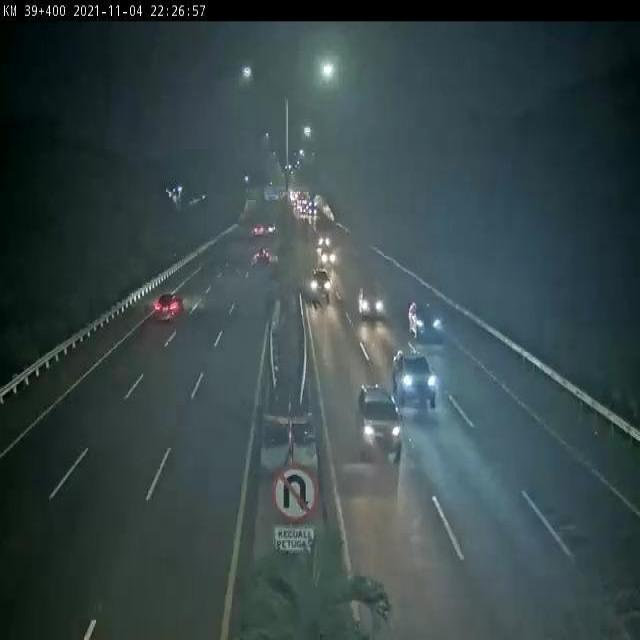car: (355, 382, 405, 458), (392, 348, 437, 408), (407, 297, 444, 340), (357, 283, 386, 317), (153, 290, 183, 322), (308, 265, 332, 299)
